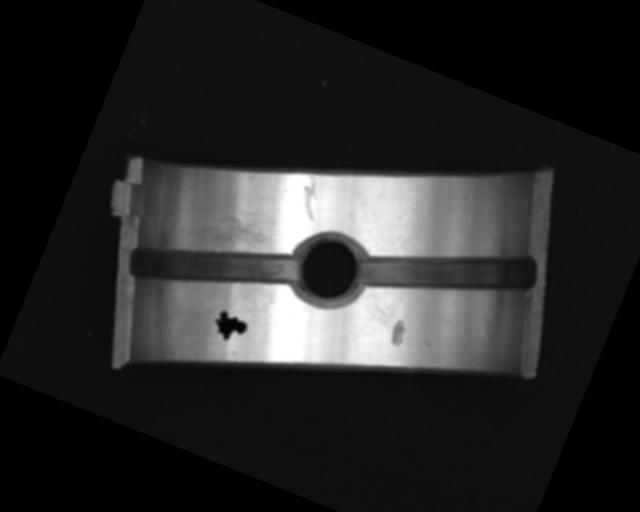blot: (209, 308, 251, 348)
bruise: (387, 317, 411, 348)
gap: (354, 201, 540, 341), (125, 205, 300, 332)
hole: (282, 226, 369, 314)
nick: (293, 173, 330, 222)
scratch: (177, 196, 281, 274)
